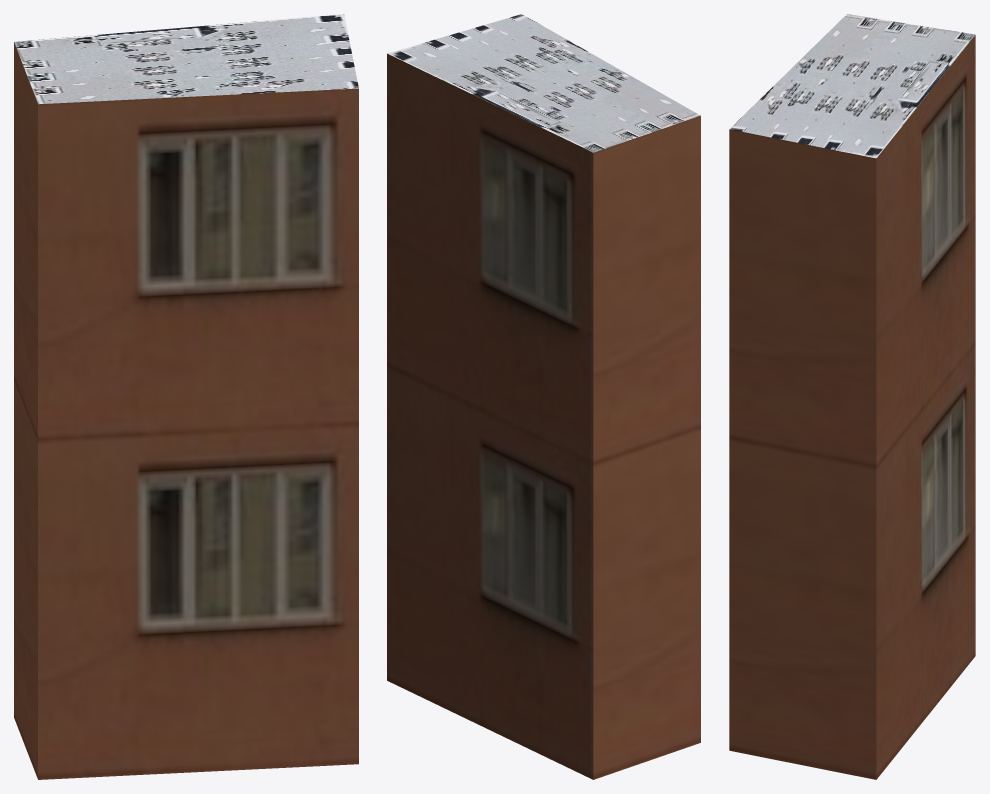
File: ResTex__2623.fbx
3 renders of one model, left to right at view 1: azimuth 30°, elevation 25°; view 2: azimuth 150°, elevation 25°; view 3: azimuth 270°, elevation 25°, orthographic. The views are drawn at different scales.
Visible parts, largest first — view 1: CityEngineMaterial_20_m, CityEngineMaterial_m; view 2: CityEngineMaterial_20_m, CityEngineMaterial_m; view 3: CityEngineMaterial_20_m, CityEngineMaterial_m.
Boxes of the visible parts, bbox=[...] form: CityEngineMaterial_20_m: bbox=[14, 42, 358, 779]; CityEngineMaterial_m: bbox=[14, 14, 358, 104]; CityEngineMaterial_20_m: bbox=[387, 53, 700, 779]; CityEngineMaterial_m: bbox=[387, 14, 700, 152]; CityEngineMaterial_20_m: bbox=[729, 35, 975, 779]; CityEngineMaterial_m: bbox=[729, 14, 975, 158].
Bounding box in the file's own units: 2.99 × 6 × 2.16.
Materials: 2 (2 with a texture image).
